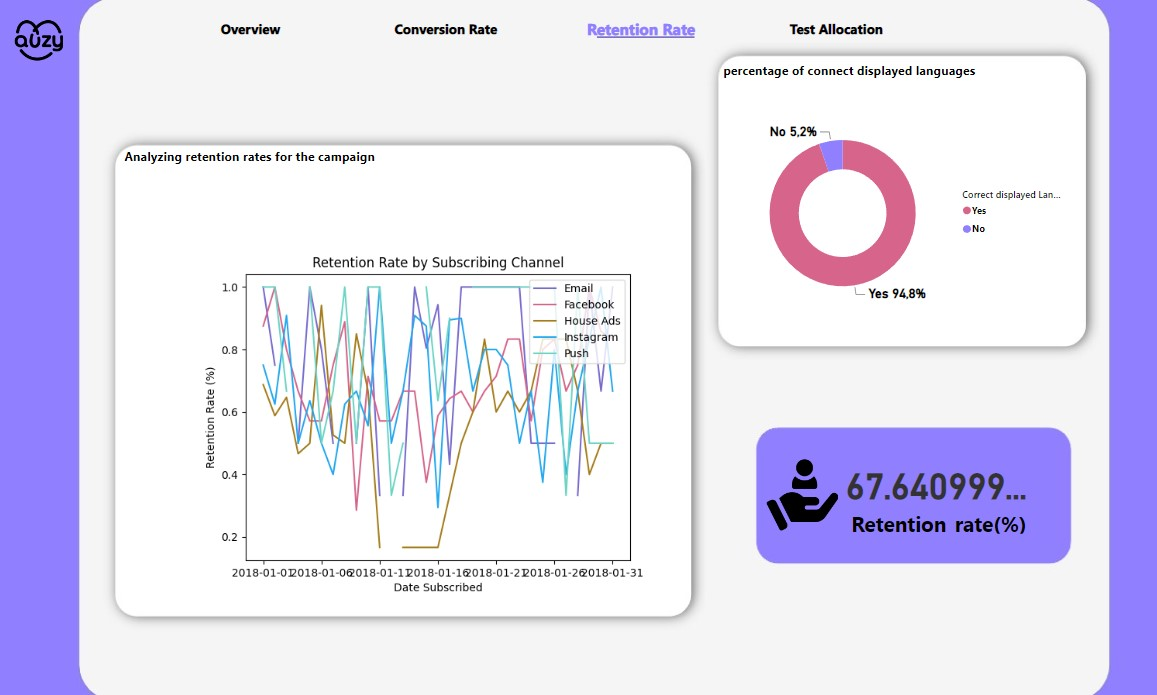

The page's visual inventory and layout, read from the dashboard file:
{"tool":"powerbi","page":{"name":"Retention Rate","canvas":[1500,900],"ordinal":2},"visuals":[{"type":"pythonVisual","title":"Analyzing retention rates for the campaign","fields":{"Values":["marketing.subscribing_channel","marketing.user_id","marketing.date_subscribed","marketing.is_retained"]},"box":[157.8,190.6,803.1,670.3],"z":0},{"type":"donutChart","title":"percentage of connect displayed languages","fields":{"Y":["CountNonNull(marketing.language_displayed)"],"Category":["marketing.is_correct_lang"]},"box":[931.2,79.7,465.6,370.3],"z":1000},{"type":"card","fields":{"Values":["Min(marketing.retention_rate(%))"]},"box":[1089.1,585.9,243.8,107.8],"z":2000},{"type":"image","box":[987.5,568.8,101.6,137.5],"z":3000},{"type":"pageNavigator","box":[204.7,10.9,1000,50],"z":4000},{"type":"shape","box":[771.9,35.9,126.6,25],"z":5000},{"type":"image","box":[0,1.5,105.6,98.2],"z":6000}]}

Visuals, with their boxes in screenshot pixels (x1, y1, x2, y2), scaled from the page's 1500x900 canvas onto the 1157x695 screenshot:
"Analyzing retention rates for the campaign" pythonVisual: [left=122, top=147, right=741, bottom=665]
"percentage of connect displayed languages" donutChart: [left=718, top=62, right=1077, bottom=348]
card - Min(marketing.retention_rate(%)): [left=840, top=452, right=1028, bottom=536]
image: [left=762, top=439, right=840, bottom=545]
pageNavigator: [left=158, top=8, right=929, bottom=47]
shape: [left=595, top=28, right=693, bottom=47]
image: [left=0, top=1, right=81, bottom=77]
